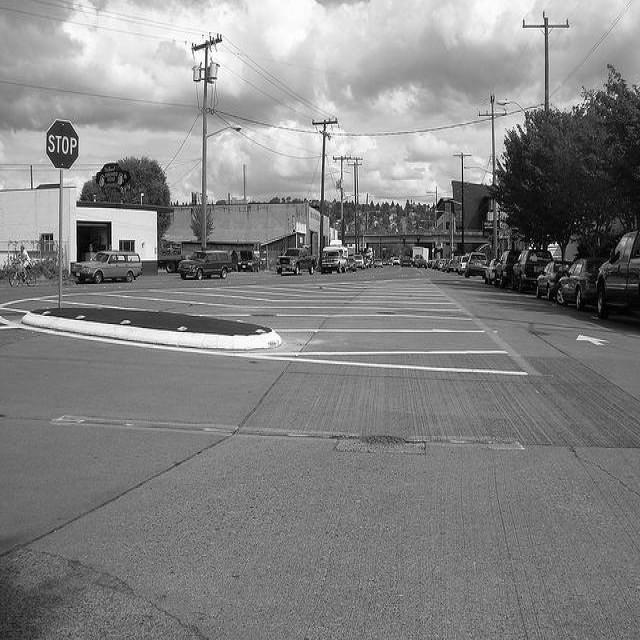vehicle: (319, 238, 521, 290), (596, 231, 640, 319), (556, 255, 608, 312), (510, 248, 554, 294), (74, 252, 139, 282), (179, 249, 234, 283), (177, 251, 233, 282), (536, 260, 571, 302), (276, 248, 318, 275), (493, 251, 519, 291), (463, 250, 489, 283), (322, 251, 348, 274), (412, 248, 429, 270), (485, 259, 497, 285), (237, 260, 260, 272), (352, 255, 364, 271), (347, 259, 357, 272), (374, 259, 384, 269)
